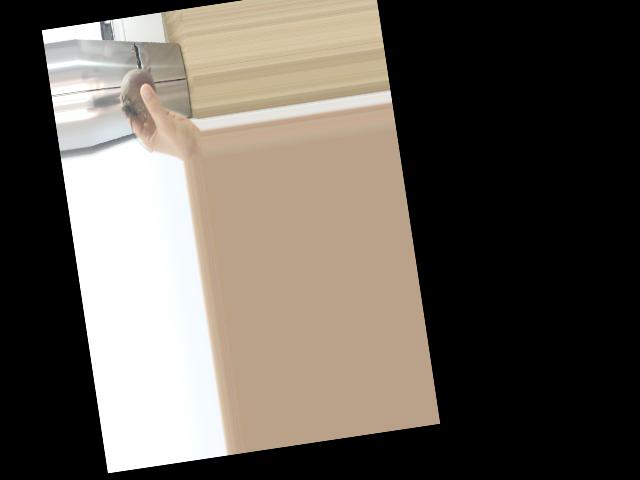beet: (115, 58, 165, 155)
